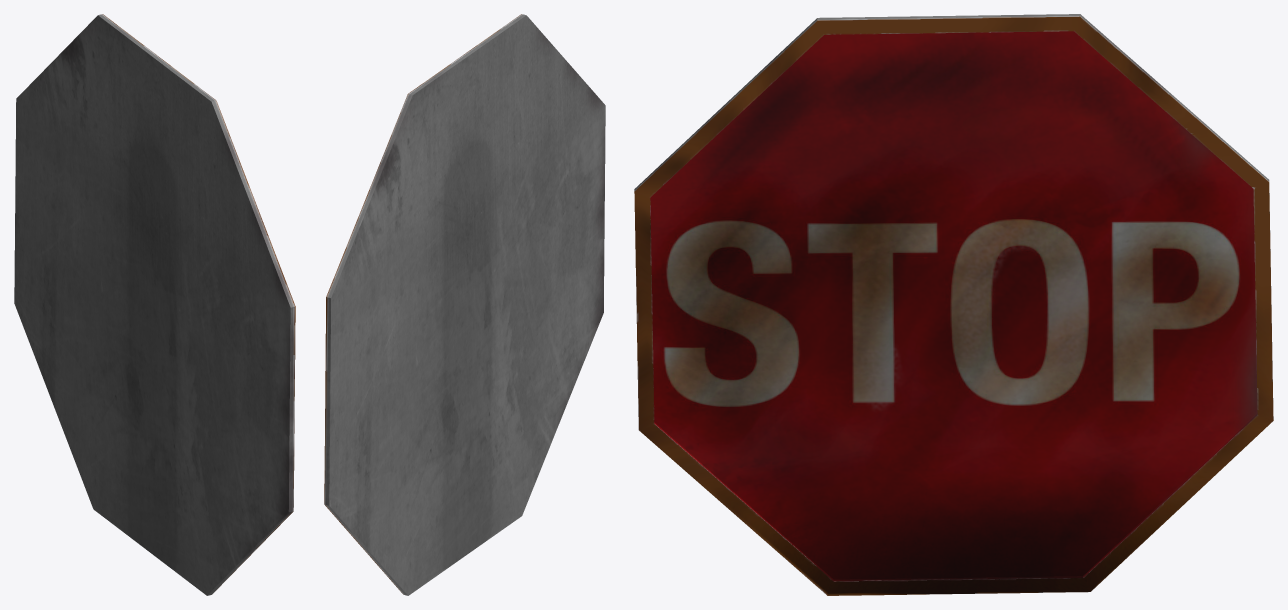
File: stop-sing.fbx
The picture shows the model from 3 angles, left to right: view 1: azimuth 30°, elevation 25°; view 2: azimuth 150°, elevation 25°; view 3: azimuth 270°, elevation 25°; orthographic projection. The views are drawn at different scales.
Parts seen in each view (by area): view 1: stopsign:StopSignFace_GEO; view 2: stopsign:StopSignFace_GEO; view 3: stopsign:StopSignFace_GEO.
Part boxes in pixels (bbox=[...]): stopsign:StopSignFace_GEO: bbox=[14, 14, 295, 595]; stopsign:StopSignFace_GEO: bbox=[324, 14, 605, 595]; stopsign:StopSignFace_GEO: bbox=[634, 14, 1273, 595].
Size of the model in its own units: 0.0194 by 1.86 by 1.86.
